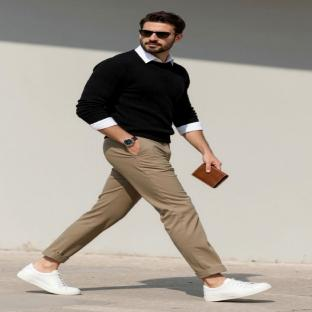Human: (19, 12, 270, 301)
